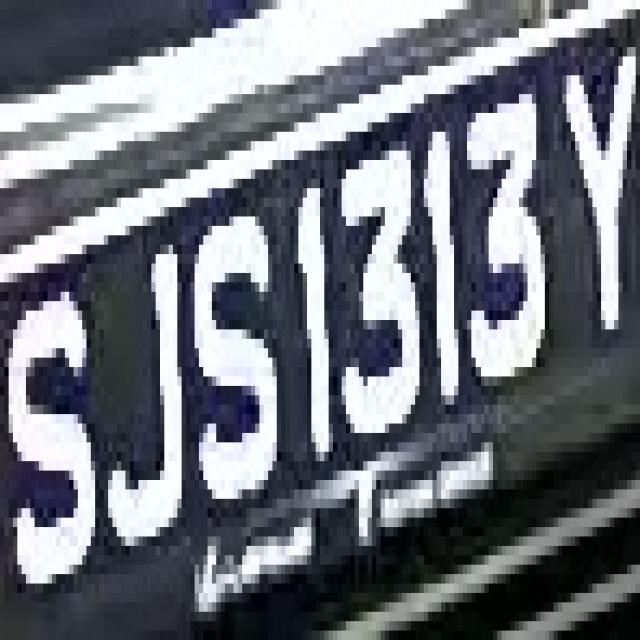1: (276, 160, 342, 518), (411, 122, 471, 433)
3: (342, 150, 436, 490), (449, 85, 554, 386)
J: (117, 226, 203, 565)
S: (0, 254, 108, 602), (186, 188, 294, 518)
Y: (549, 28, 636, 367)
